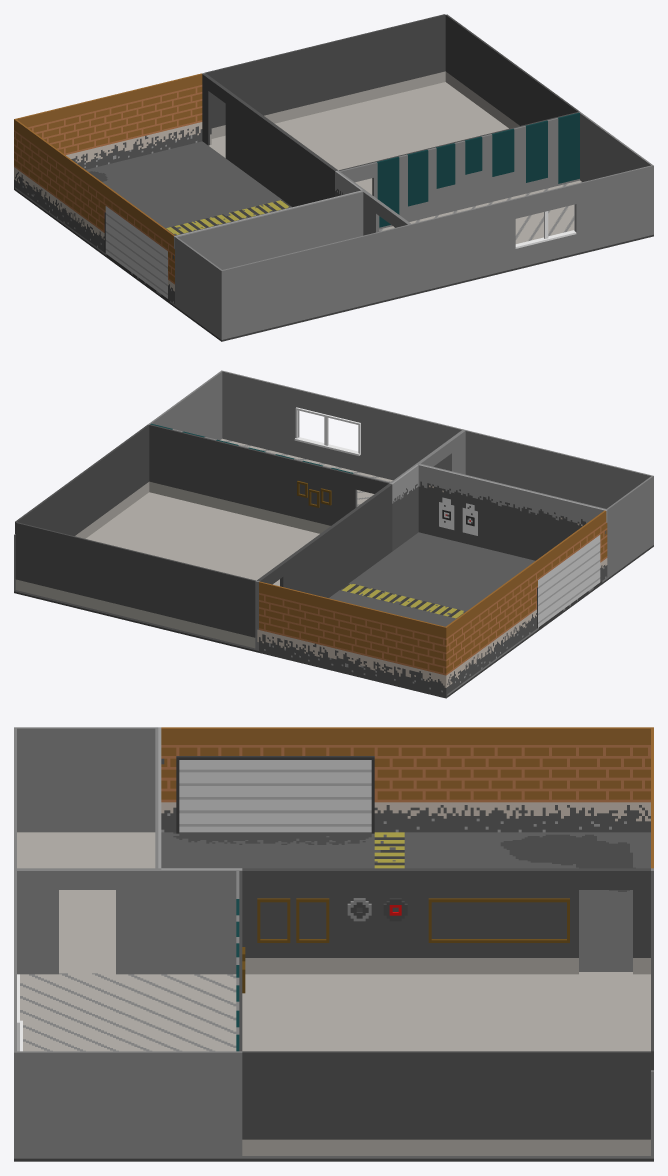
Rendered from House-3.obj.
3 renders of one model, top to bottom at view 1: azimuth 30°, elevation 25°; view 2: azimuth 150°, elevation 25°; view 3: azimuth 270°, elevation 25°, orthographic. The views are drawn at different scales.
Bounding box in the file's own units: 25.6 × 4 × 21.3.
Materials: 1 (1 with a texture image).
